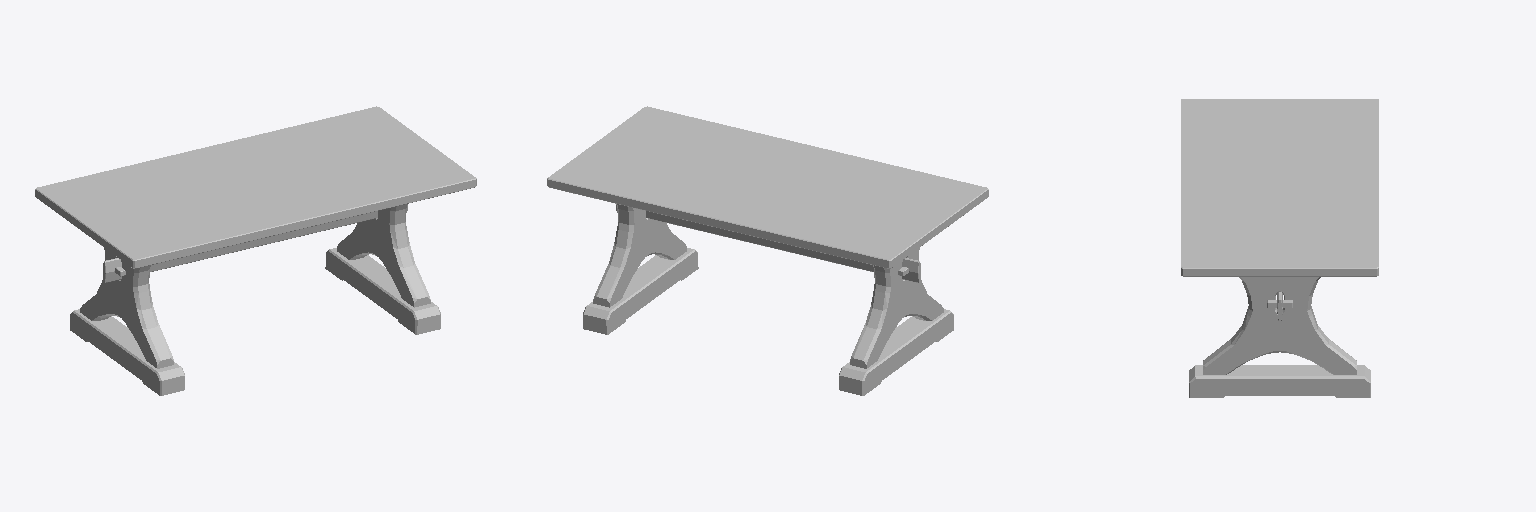
Rendered from woodtable.obj.
The picture shows the model from 3 angles: view 1: azimuth 30°, elevation 25°; view 2: azimuth 150°, elevation 25°; view 3: azimuth 270°, elevation 25°; orthographic projection.
Visible parts, largest first — view 1: Desk_LP_01 - Default_0; view 2: Desk_LP_01 - Default_0; view 3: Desk_LP_01 - Default_0.
Boxes of the visible parts, <box> form: Desk_LP_01 - Default_0: <box>35,106,476,395</box>; Desk_LP_01 - Default_0: <box>547,106,988,395</box>; Desk_LP_01 - Default_0: <box>1181,99,1378,397</box>.
Size of the model in its own units: 2 by 0.8184 by 1.